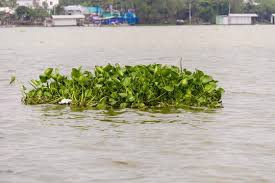water_hyacinth: (23, 63, 223, 113)
